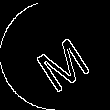M_NW: (22, 21, 88, 89)
